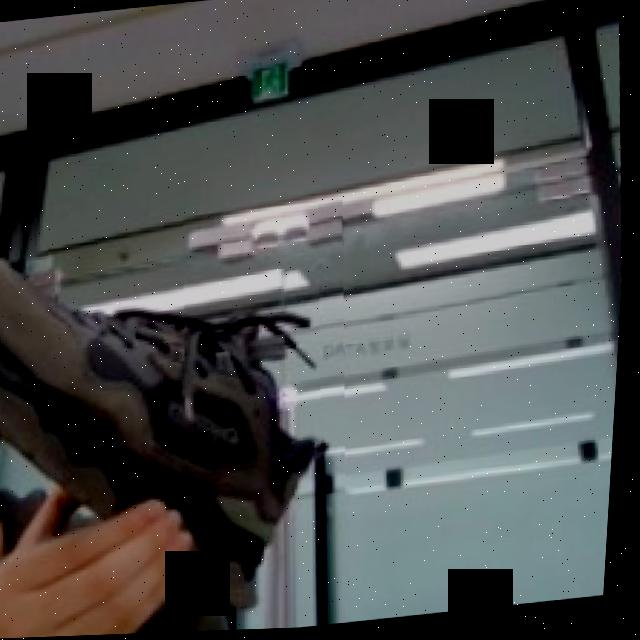shoe: (0, 201, 373, 640)
